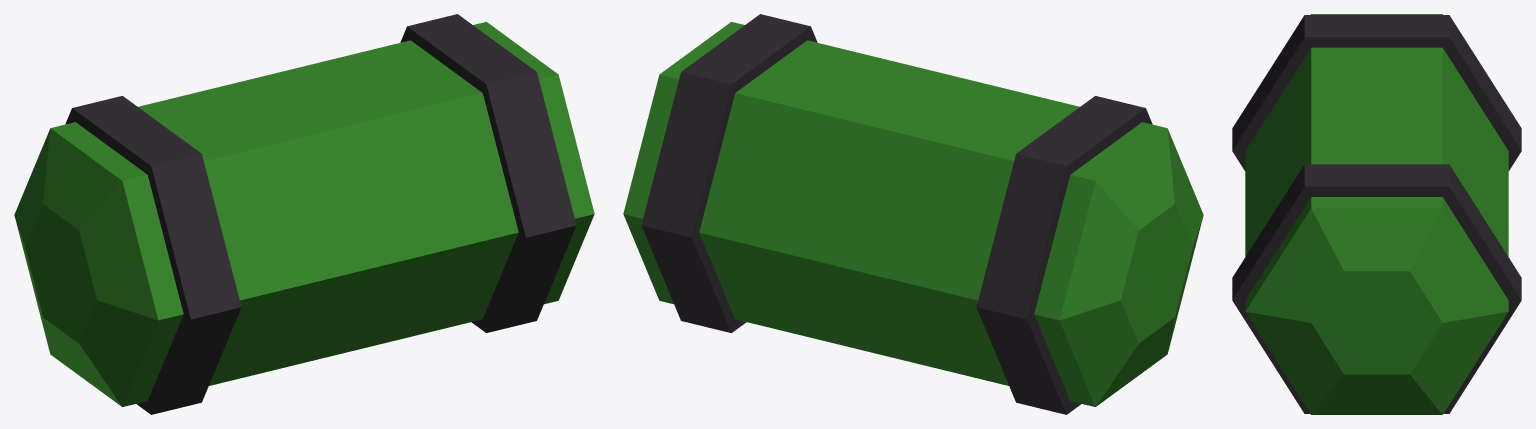
File: Dmg_Upgrade.glb
3 renders of one model, left to right at view 1: azimuth 30°, elevation 25°; view 2: azimuth 150°, elevation 25°; view 3: azimuth 270°, elevation 25°, orthographic. The views are drawn at different scales.
Parts seen in each view (by area): view 1: Dmg Upgrade; view 2: Dmg Upgrade; view 3: Dmg Upgrade.
Boxes of the visible parts, <box> form: Dmg Upgrade: <box>14,14,594,414</box>; Dmg Upgrade: <box>623,14,1203,414</box>; Dmg Upgrade: <box>1232,14,1521,414</box>.
Bounding box in the file's own units: 0.0962 × 0.047 × 0.0543.
